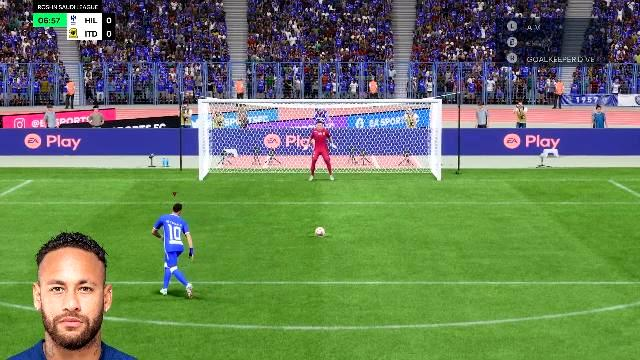bottom-left: (202, 141, 280, 181)
bottom-right: (358, 141, 438, 181)
center-down: (282, 140, 356, 180)
center-up: (281, 103, 355, 139)
circle: (309, 234, 333, 236)
football: (314, 227, 324, 236)
goalkeeper: (302, 122, 342, 182)
player: (148, 198, 206, 304)
top-left: (202, 103, 278, 139)
top-right: (356, 103, 439, 139)
